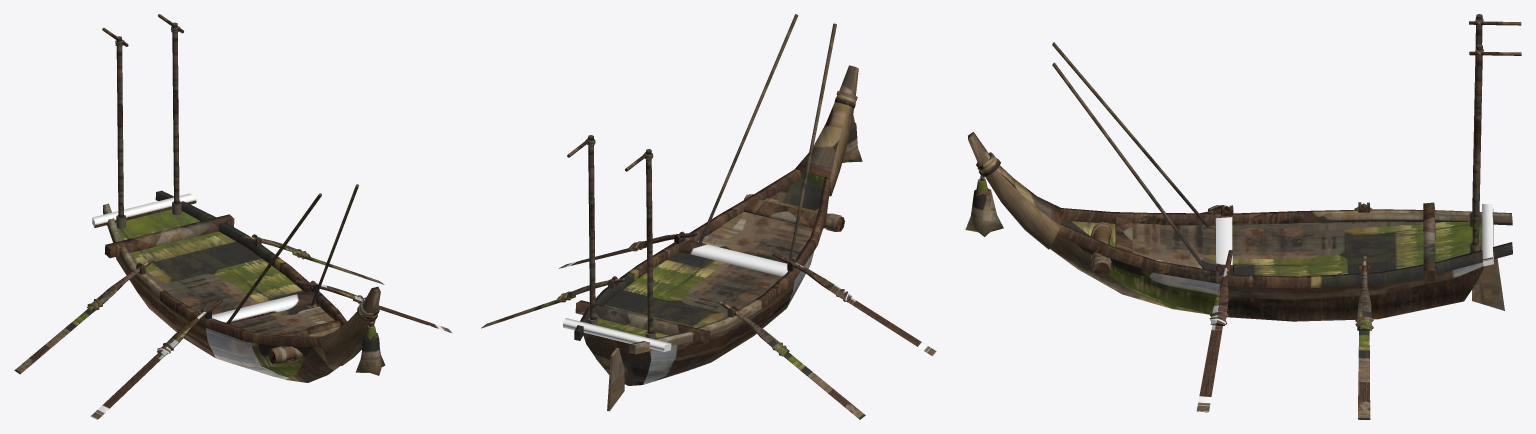
The model's file is 278-rammingwasen.glb.
3 views of the same model, side by side, from view 1: azimuth 30°, elevation 25°; view 2: azimuth 150°, elevation 25°; view 3: azimuth 270°, elevation 25° (orthographic). The views are drawn at different scales.
Bounding box in the file's own units: 4.66 × 3.16 × 5.5.
Materials: 1 (1 with a texture image).
